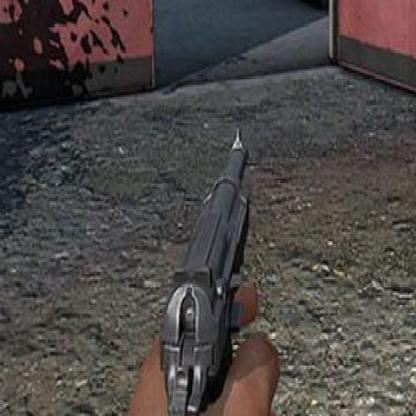gun: (150, 125, 273, 414)
